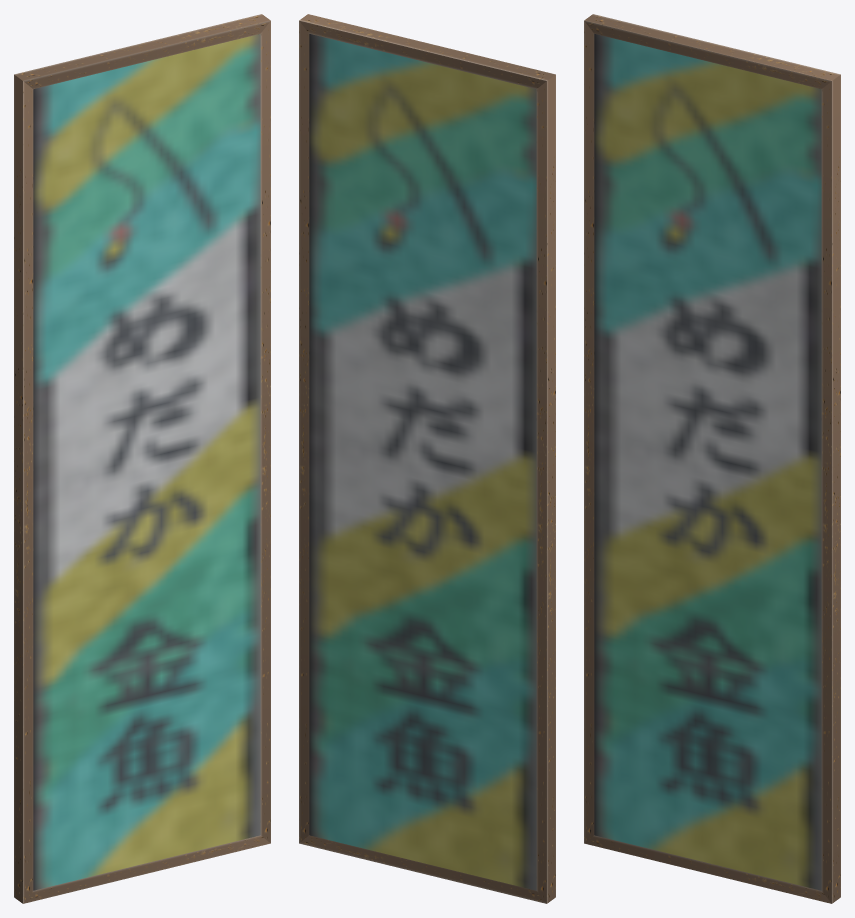
File: shopboard05c.fbx
3 views of the same model, side by side, from view 1: azimuth 30°, elevation 25°; view 2: azimuth 150°, elevation 25°; view 3: azimuth 330°, elevation 25° (orthographic).
Parts seen in each view (by area): view 1: shopboard05c; view 2: shopboard05c; view 3: shopboard05c.
Boxes of the visible parts, x1,y1,x2,y2 form: shopboard05c: (14, 14, 270, 903); shopboard05c: (299, 14, 555, 903); shopboard05c: (584, 14, 840, 903).
Size of the model in its own units: 39.95 by 127 by 2.51.
